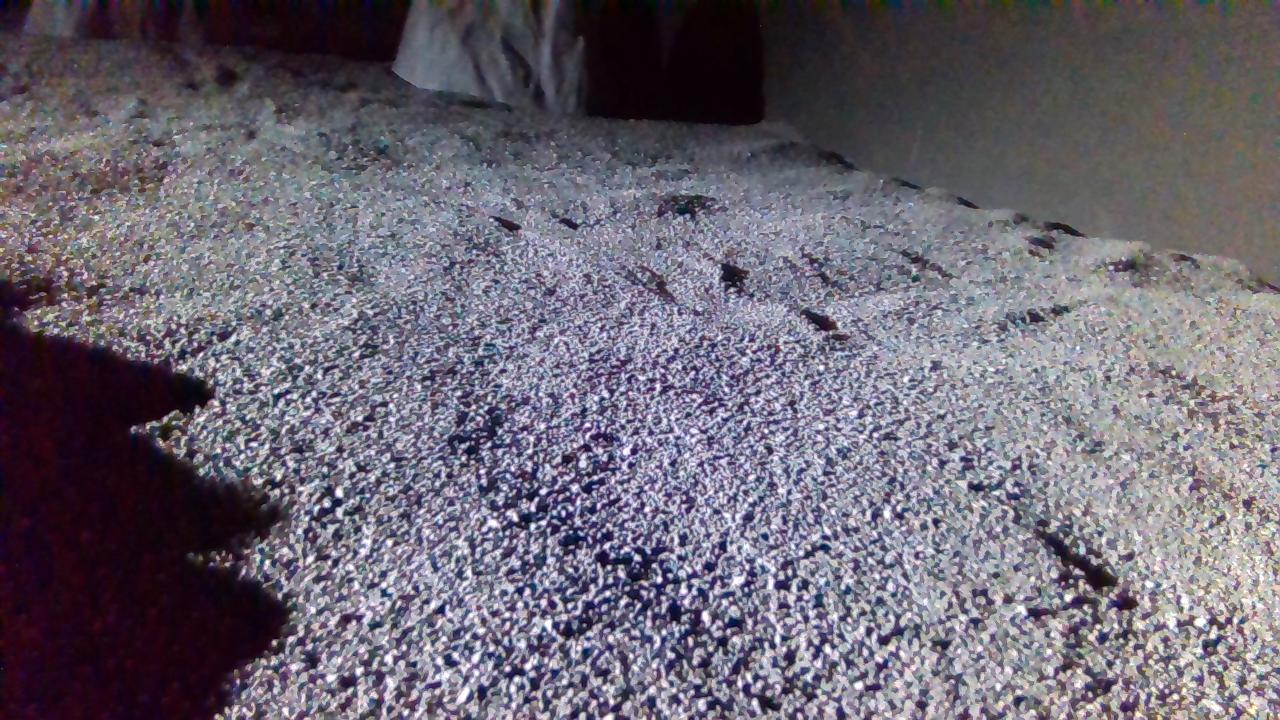rock: (392, 0, 584, 112), (22, 0, 232, 43)
